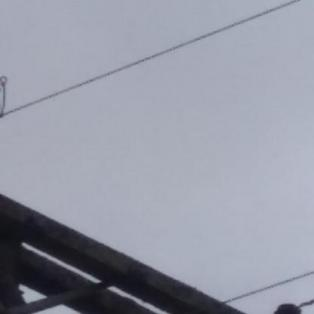Poste: (0, 213, 39, 314)
